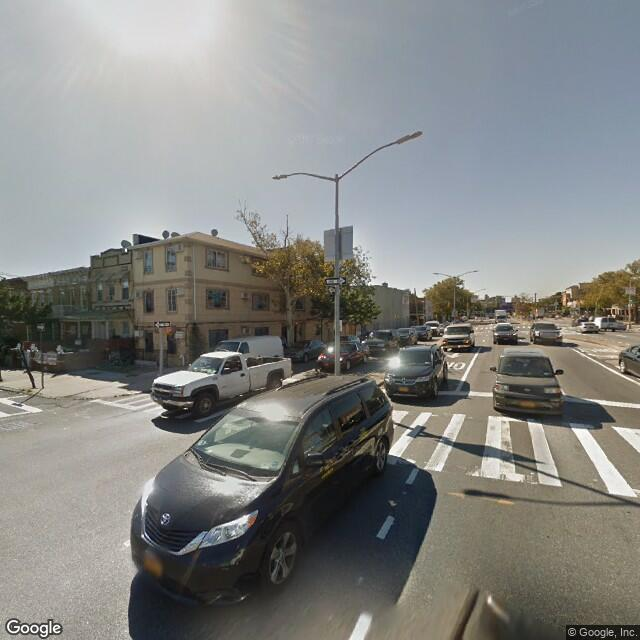litter: (10, 385, 46, 400)
